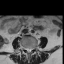CCS_normal: (28, 46, 29, 54)
LFS_normal: (32, 46, 34, 51)
LLS_normal: (29, 46, 31, 53)
RFS_normal: (24, 45, 26, 51)
RLS_normal: (26, 46, 28, 53)
